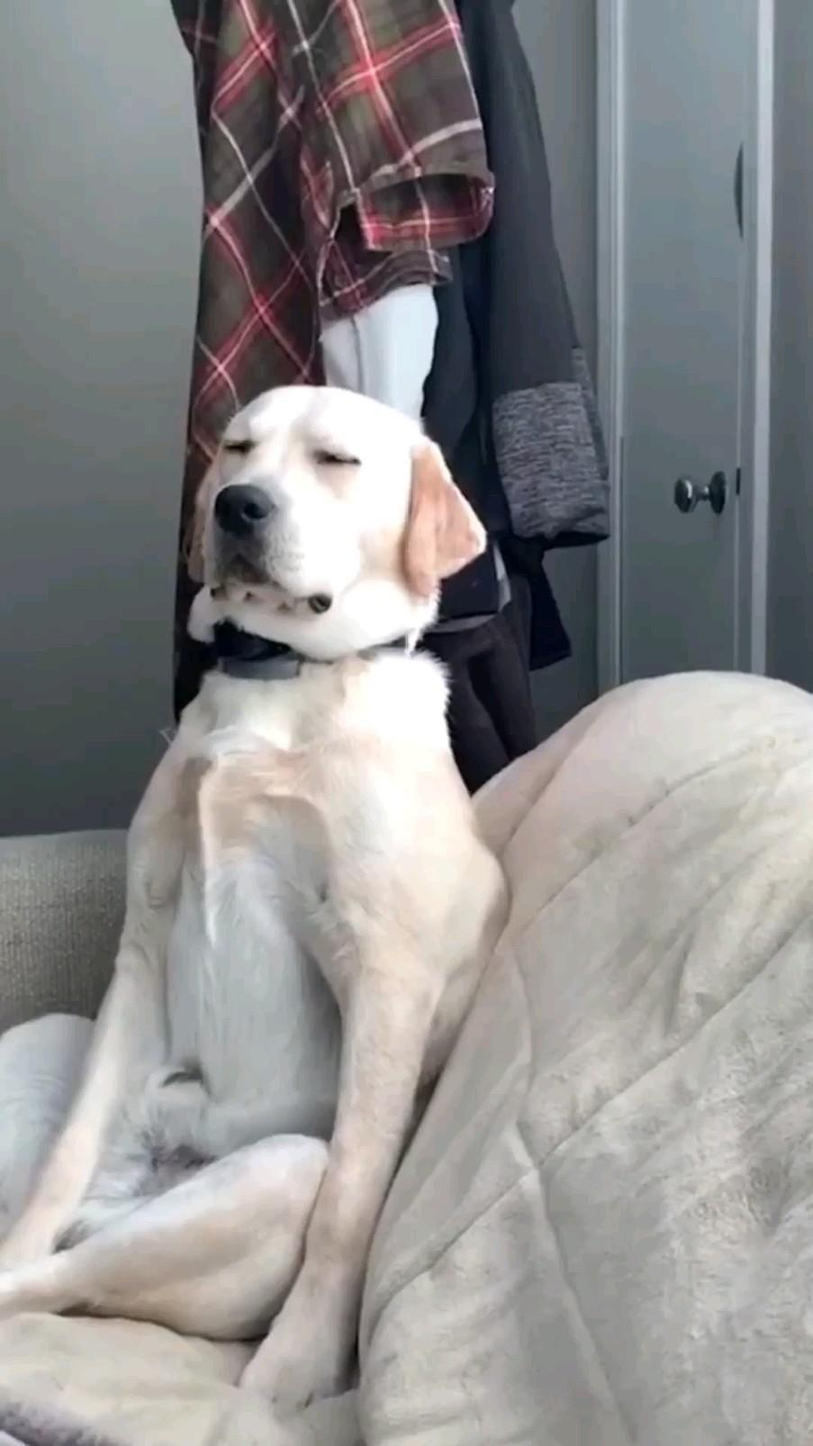adult_dog: (0, 381, 510, 1443)
